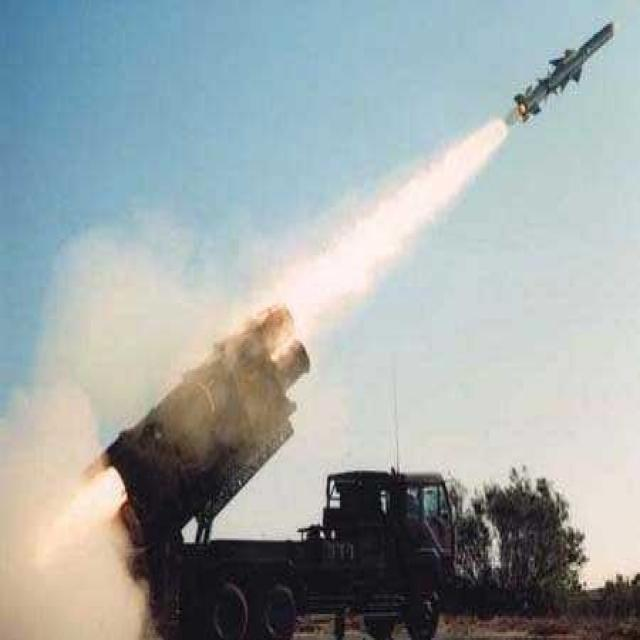missile: (504, 12, 625, 141)
